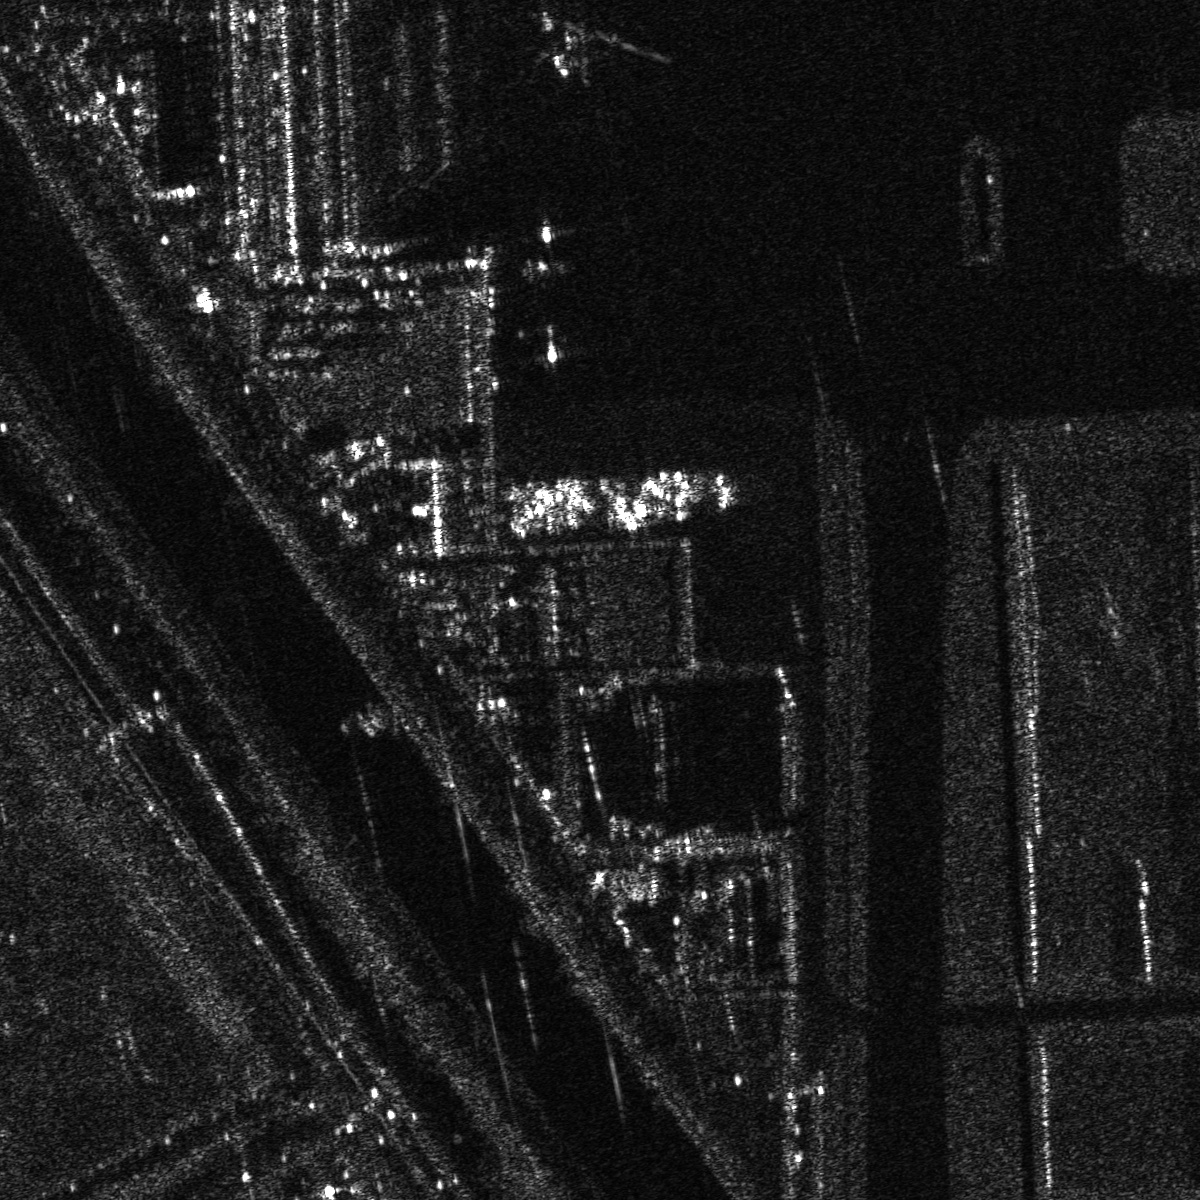A220: (534, 1, 618, 95)
other: (595, 460, 664, 542), (646, 453, 713, 525), (530, 474, 588, 540)
